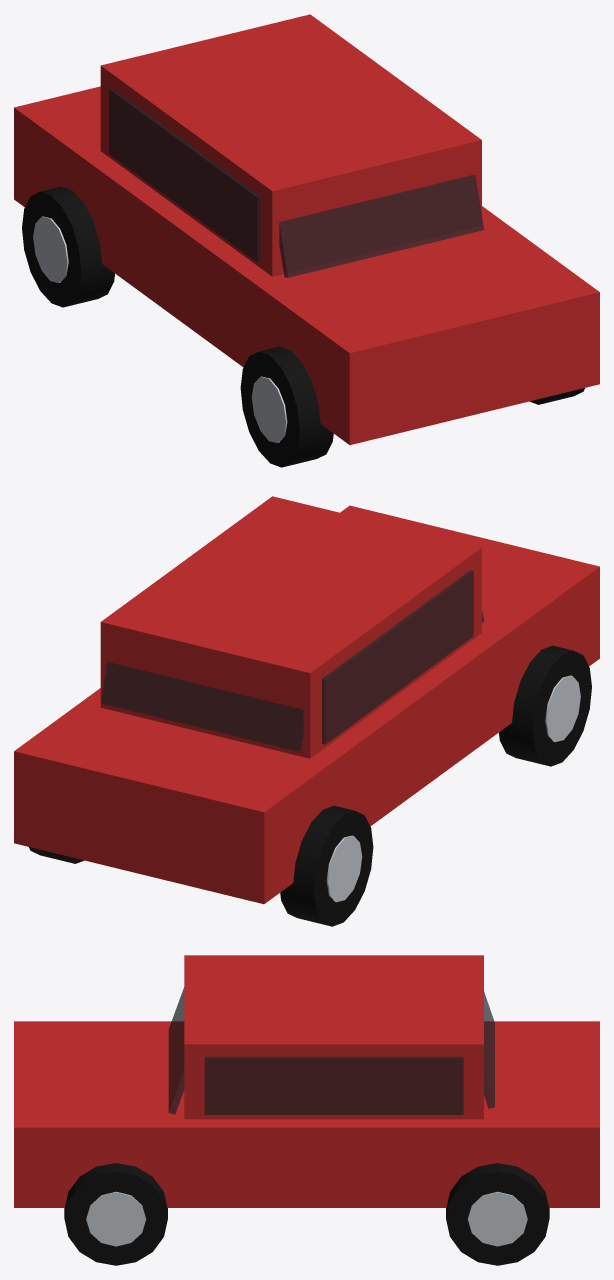
File: car.glb
The picture shows the model from 3 angles, top to bottom: view 1: azimuth 30°, elevation 25°; view 2: azimuth 150°, elevation 25°; view 3: azimuth 270°, elevation 25°; orthographic projection. The views are drawn at different scales.
Visible parts, largest first — view 1: Sedan; view 2: Sedan; view 3: Sedan.
Boxes of the visible parts, bbox=[...] form: Sedan: bbox=[14, 14, 599, 467]; Sedan: bbox=[14, 496, 599, 926]; Sedan: bbox=[14, 955, 599, 1265].
Bounding box in the file's own units: 2.18 × 1.65 × 4.3.
